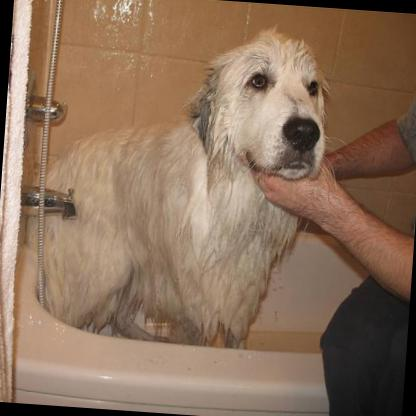Great_Pyrenees: (14, 13, 330, 354)
